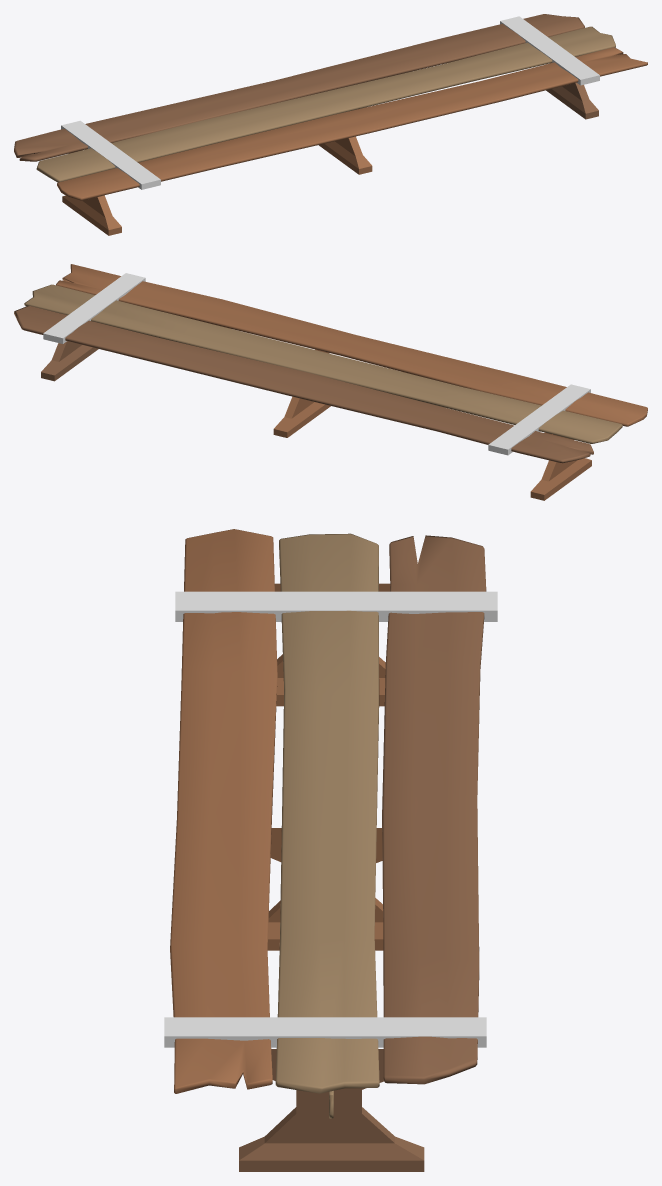
Rendered from Eettafel.fbx.
3 views of the same model, one above another, from view 1: azimuth 30°, elevation 25°; view 2: azimuth 150°, elevation 25°; view 3: azimuth 270°, elevation 25° (orthographic). The views are drawn at different scales.
Visible parts, largest first — view 1: Schot, Metaal, Tafel.001; view 2: Schot, Metaal, Tafel.001; view 3: Schot, Metaal, Tafel.001.
Part boxes in pixels (x1=…): Schot: x1=14, y1=14, x2=647, y2=200; Metaal: x1=61, y1=16, x2=599, y2=189; Tafel.001: x1=62, y1=55, x2=598, y2=235; Schot: x1=14, y1=264, x2=647, y2=463; Metaal: x1=43, y1=273, x2=590, y2=455; Tafel.001: x1=41, y1=341, x2=591, y2=500; Schot: x1=170, y1=529, x2=486, y2=1093; Metaal: x1=164, y1=591, x2=497, y2=1047; Tafel.001: x1=239, y1=583, x2=424, y2=1171.
Size of the model in its own units: 761 by 75.26 by 192.
